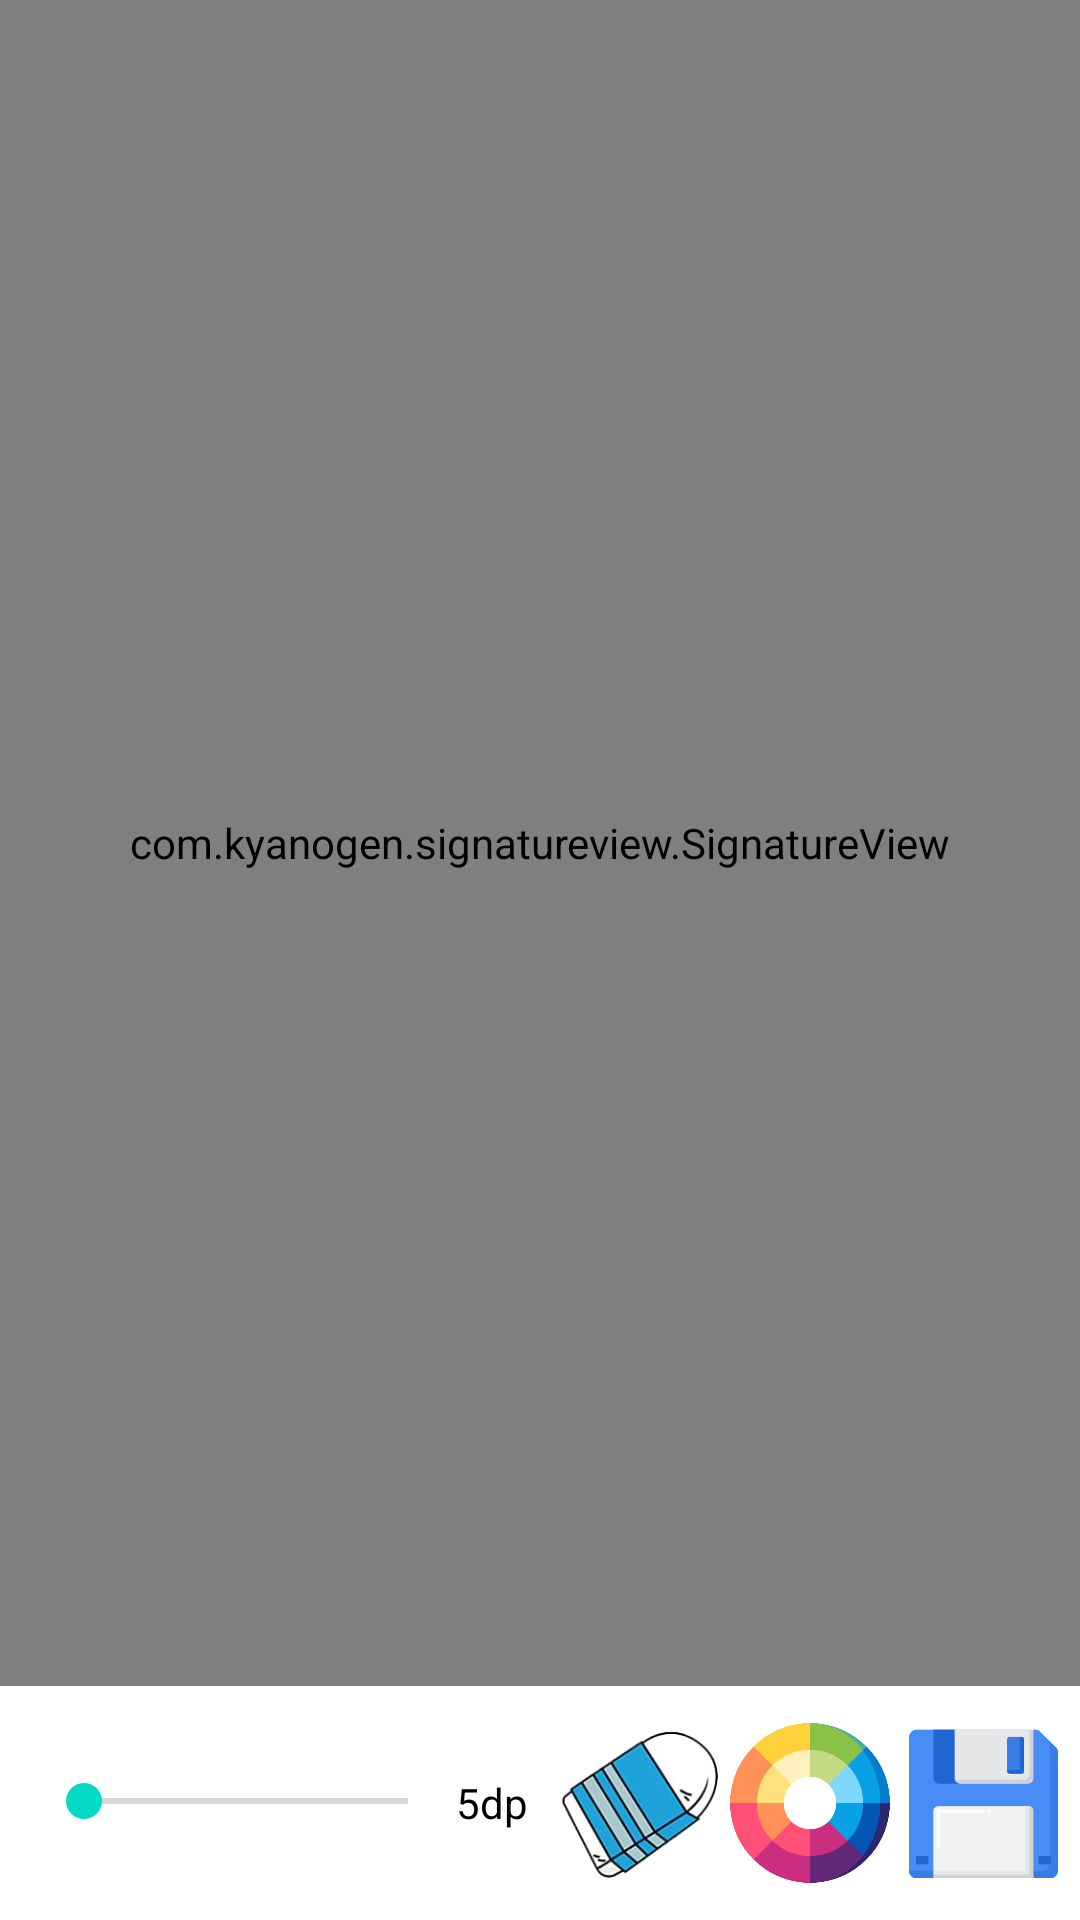

Icon bounding boxes for this 1080×1920 phone screenshot, format (x1, y1, x2, y2):
colorpalette: (730, 1723, 890, 1883)
eraser: (562, 1732, 718, 1878)
saveicon: (909, 1729, 1058, 1878)
